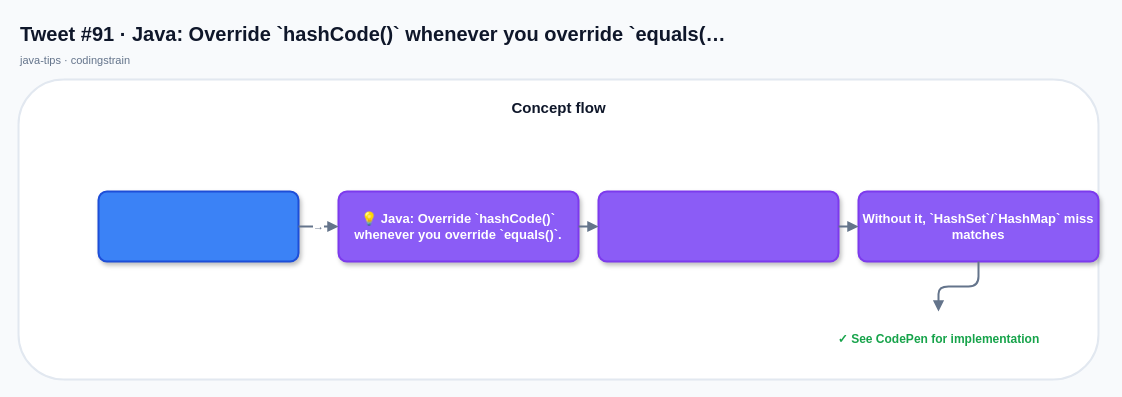
This 1122x397 diagram has some shape labels left out. The shapes that lost their labels are listed below. From the top down, each one's centre as x and y in pixels, then its label:
At [199,227]: "Problem / context".
At [719,227]: "Equal objects must share the same hash code".
